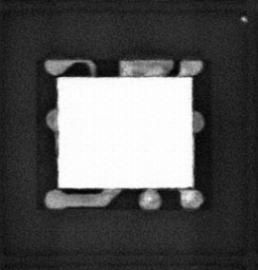DIE_INK: (240, 13, 248, 23)
